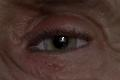eye: (46, 36, 77, 51)
